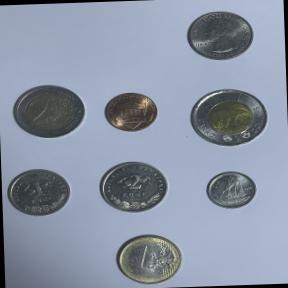coin: (182, 80, 274, 153), (7, 80, 91, 144), (180, 4, 259, 68), (92, 156, 174, 216), (109, 230, 186, 288), (100, 87, 163, 139), (202, 167, 260, 214)
